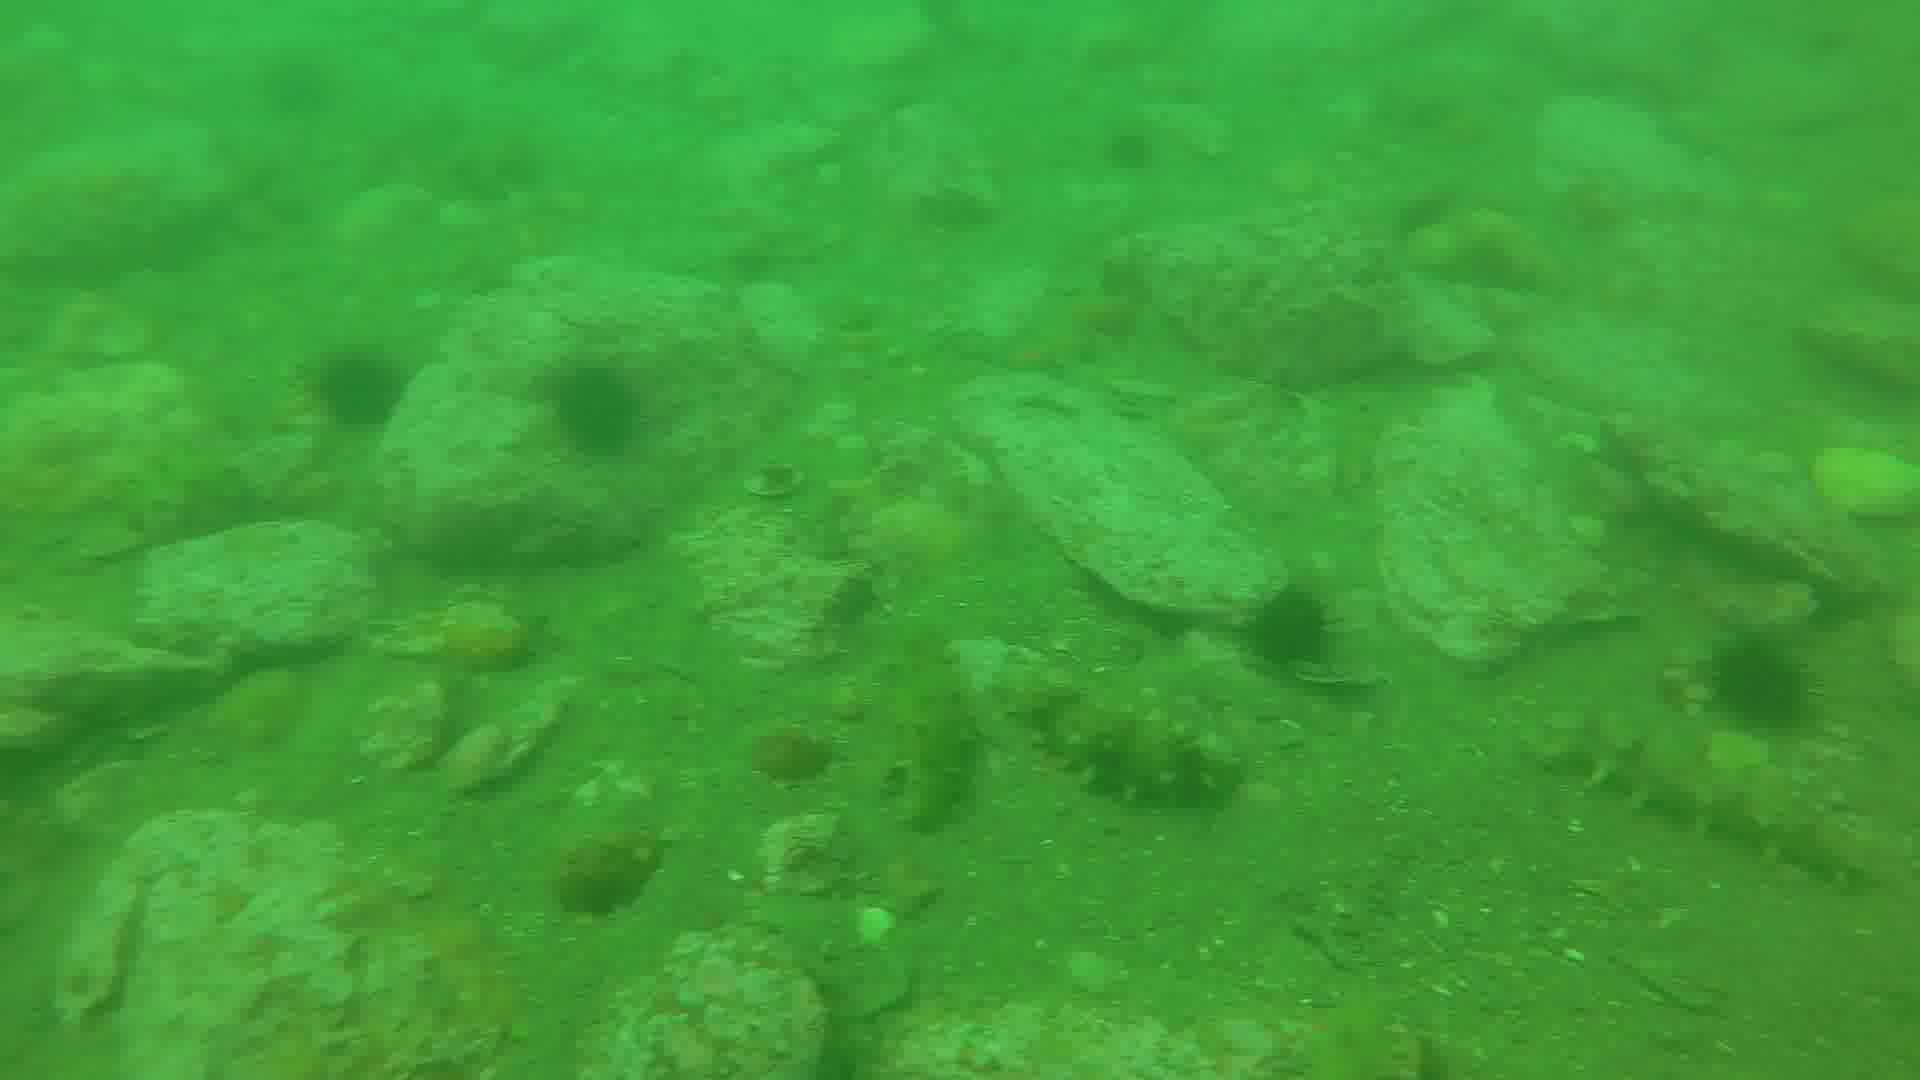echinus: (1710, 630, 1801, 735), (543, 363, 630, 452), (314, 353, 404, 425), (1245, 582, 1323, 659)
holothurian: (1568, 709, 1869, 894), (1007, 676, 1236, 804), (877, 613, 986, 833)
